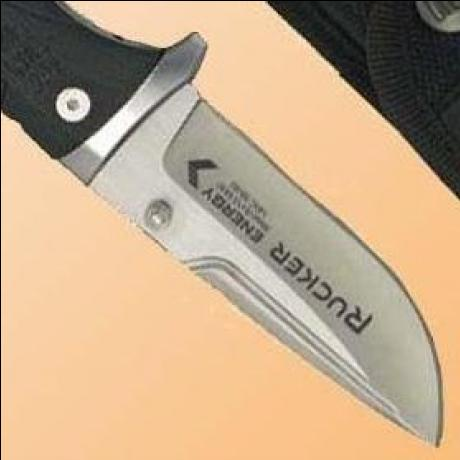weapon: (75, 58, 446, 449)
